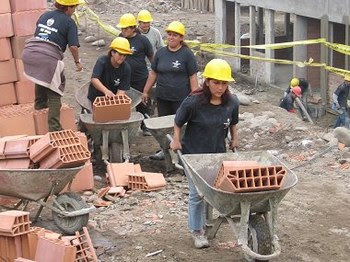casco: (202, 58, 236, 83), (108, 36, 134, 55), (115, 13, 138, 29), (164, 20, 186, 36), (137, 8, 154, 23), (55, 1, 82, 6), (291, 86, 302, 98), (290, 78, 299, 88)
